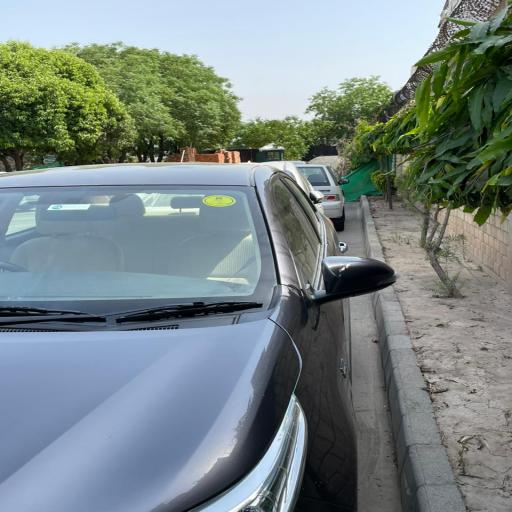bnu_sticker: (202, 193, 236, 207)
